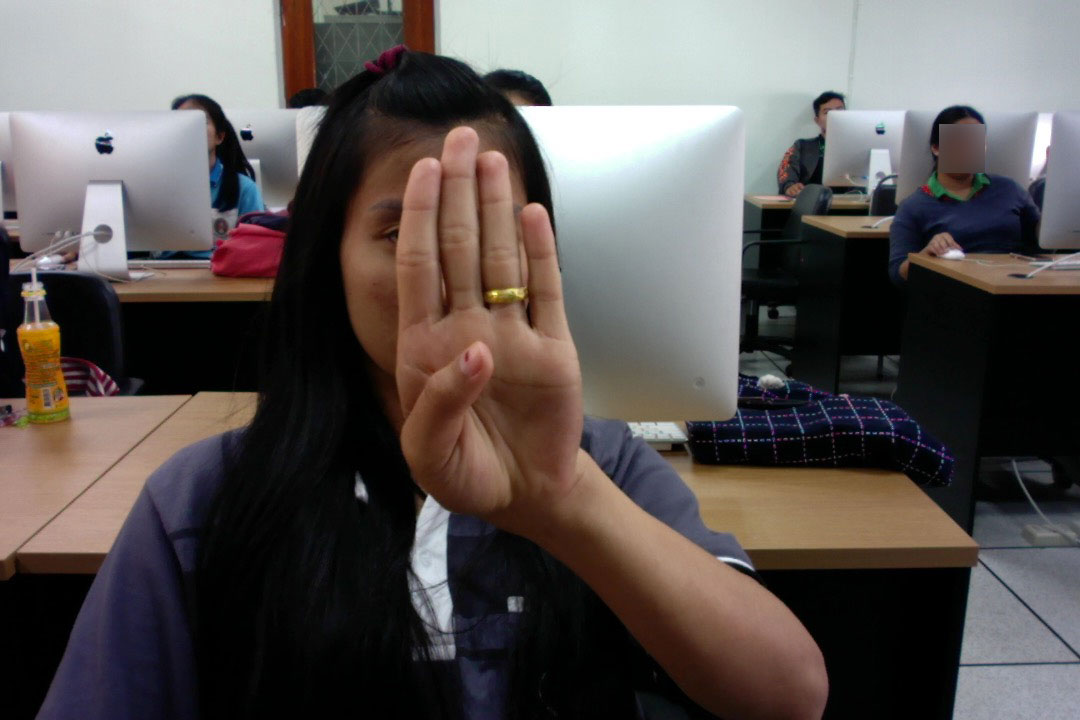bor: (388, 118, 596, 534)
